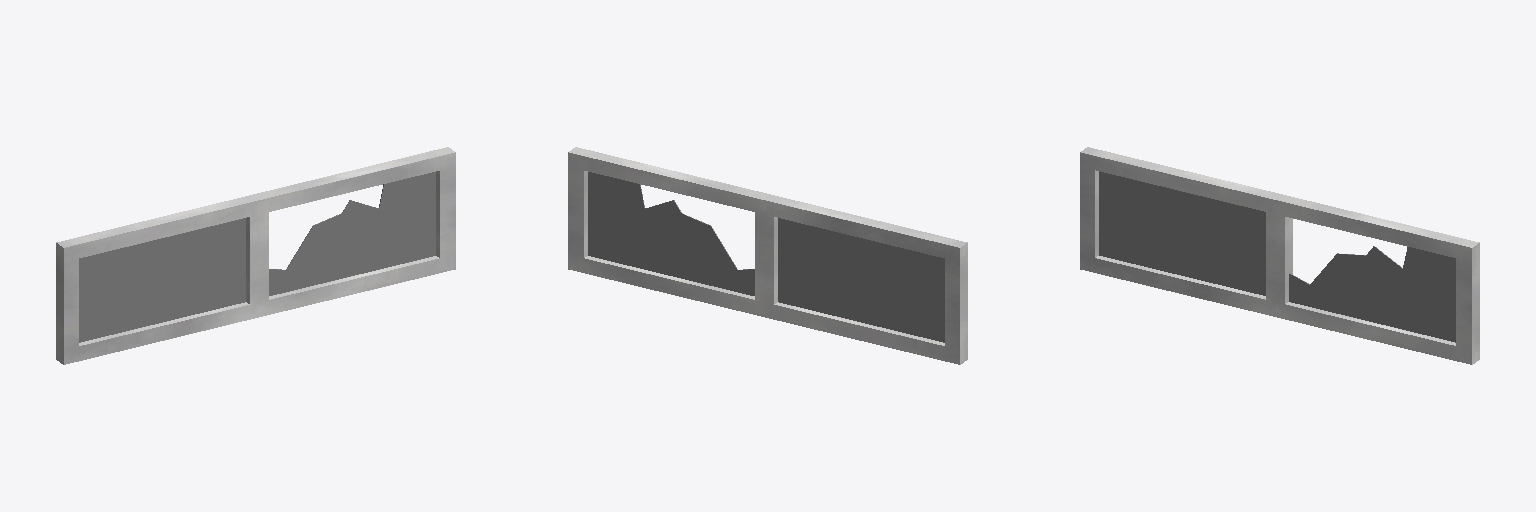
3 renders of one model, left to right at view 1: azimuth 30°, elevation 25°; view 2: azimuth 150°, elevation 25°; view 3: azimuth 330°, elevation 25°, orthographic.
Parts seen in each view (by area): view 1: Top_Window_Glass, Window_Top; view 2: Top_Window_Glass, Window_Top; view 3: Top_Window_Glass, Window_Top.
Boxes of the visible parts, <box> form: Top_Window_Glass: <box>79,172,435,342</box>; Window_Top: <box>56,147,455,364</box>; Top_Window_Glass: <box>588,172,944,342</box>; Window_Top: <box>568,147,967,364</box>; Top_Window_Glass: <box>1099,171,1455,342</box>; Window_Top: <box>1080,147,1479,364</box>.
Size of the model in its own units: 108 by 30.78 by 3.56.
Materials: 2 (1 with a texture image).